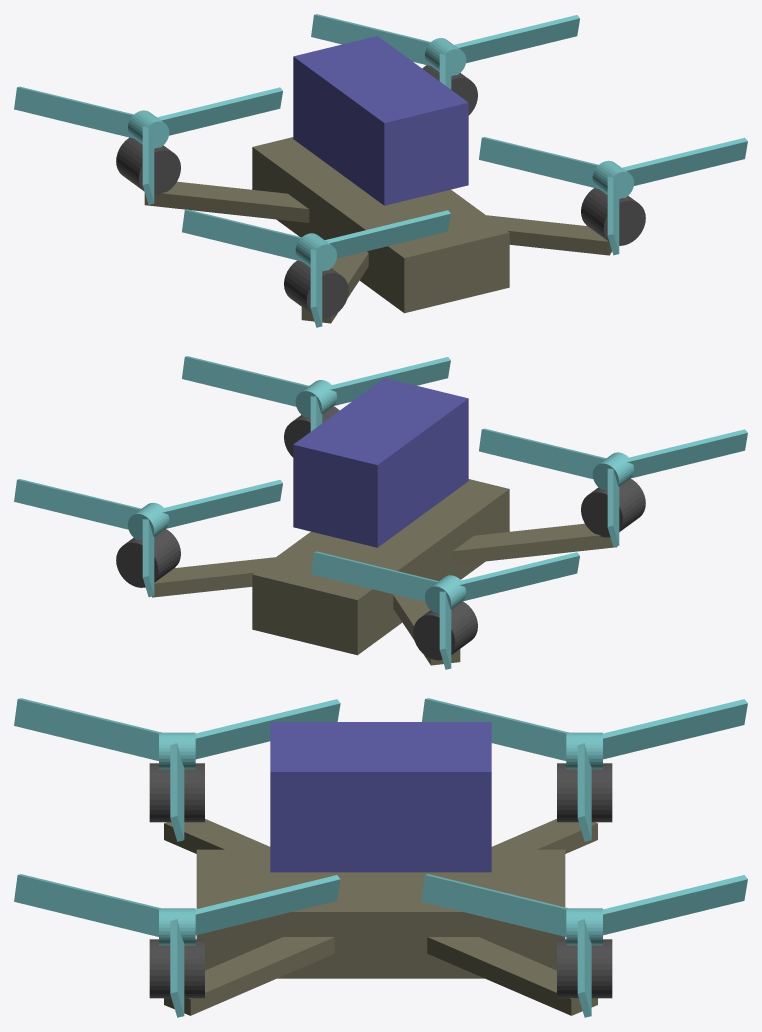
Rendered from MultiGP PRO Spec.glb.
The picture shows the model from 3 angles, top to bottom: view 1: azimuth 30°, elevation 25°; view 2: azimuth 150°, elevation 25°; view 3: azimuth 270°, elevation 25°; orthographic projection. The views are drawn at different scales.
Visible parts, largest first — view 1: battery, frame_body, prop_0, prop_2, prop_3, prop_1, arm_3, arm_0, motor_2, motor_3, motor_0, arm_2 (+1 smaller); view 2: battery, frame_body, prop_2, prop_3, prop_1, prop_0, arm_2, arm_1, motor_3, motor_2, motor_1, arm_3 (+1 smaller); view 3: battery, frame_body, prop_0, prop_1, prop_2, prop_3, arm_1, arm_0, motor_0, motor_1, motor_2, motor_3 (+2 smaller).
Boxes of the visible parts, bbox=[...] form: battery: bbox=[293, 36, 468, 205]; frame_body: bbox=[252, 137, 509, 313]; prop_0: bbox=[479, 137, 747, 255]; prop_2: bbox=[182, 209, 450, 327]; prop_3: bbox=[14, 86, 282, 204]; prop_1: bbox=[311, 14, 579, 89]; arm_3: bbox=[144, 181, 309, 222]; arm_0: bbox=[486, 215, 611, 255]; motor_2: bbox=[284, 260, 348, 318]; motor_3: bbox=[116, 137, 180, 195]; motor_0: bbox=[581, 188, 645, 245]; arm_2: bbox=[301, 251, 368, 323]; battery: bbox=[293, 378, 468, 547]; frame_body: bbox=[252, 479, 509, 655]; prop_2: bbox=[479, 428, 747, 546]; prop_3: bbox=[311, 551, 579, 669]; prop_1: bbox=[14, 479, 282, 597]; prop_0: bbox=[182, 356, 450, 431]; arm_2: bbox=[452, 523, 617, 564]; arm_1: bbox=[152, 557, 275, 597]; motor_3: bbox=[413, 601, 477, 660]; motor_2: bbox=[581, 478, 645, 537]; motor_1: bbox=[116, 529, 180, 587]; arm_3: bbox=[393, 594, 460, 665]; battery: bbox=[270, 722, 491, 872]; frame_body: bbox=[196, 849, 565, 978]; prop_0: bbox=[14, 874, 340, 1017]; prop_1: bbox=[421, 874, 747, 1017]; prop_2: bbox=[14, 698, 340, 841]; prop_3: bbox=[422, 698, 747, 841]; arm_1: bbox=[427, 937, 597, 1015]; arm_0: bbox=[164, 937, 334, 1015]; motor_0: bbox=[149, 939, 204, 998]; motor_1: bbox=[557, 939, 612, 998]; motor_2: bbox=[149, 763, 204, 822]; motor_3: bbox=[557, 763, 612, 822].
Size of the model in its own units: 0.1895 by 0.06 by 0.1989.
